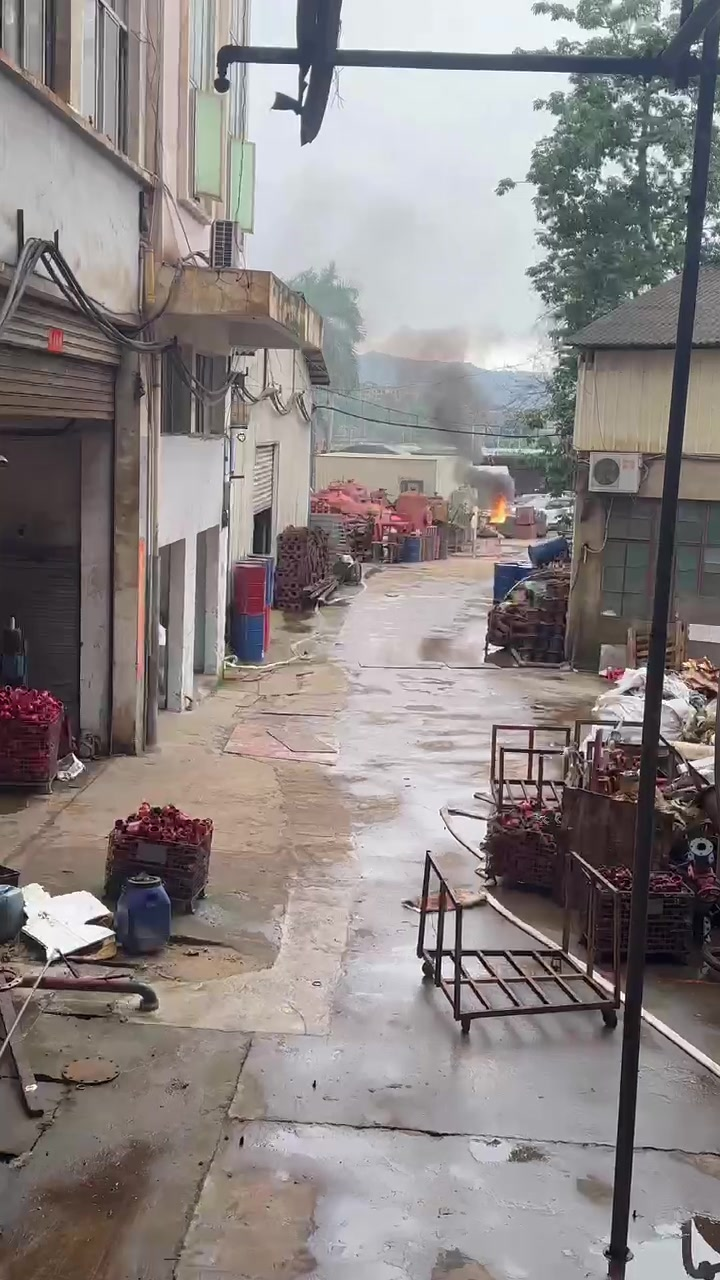fire: (489, 495, 505, 522)
